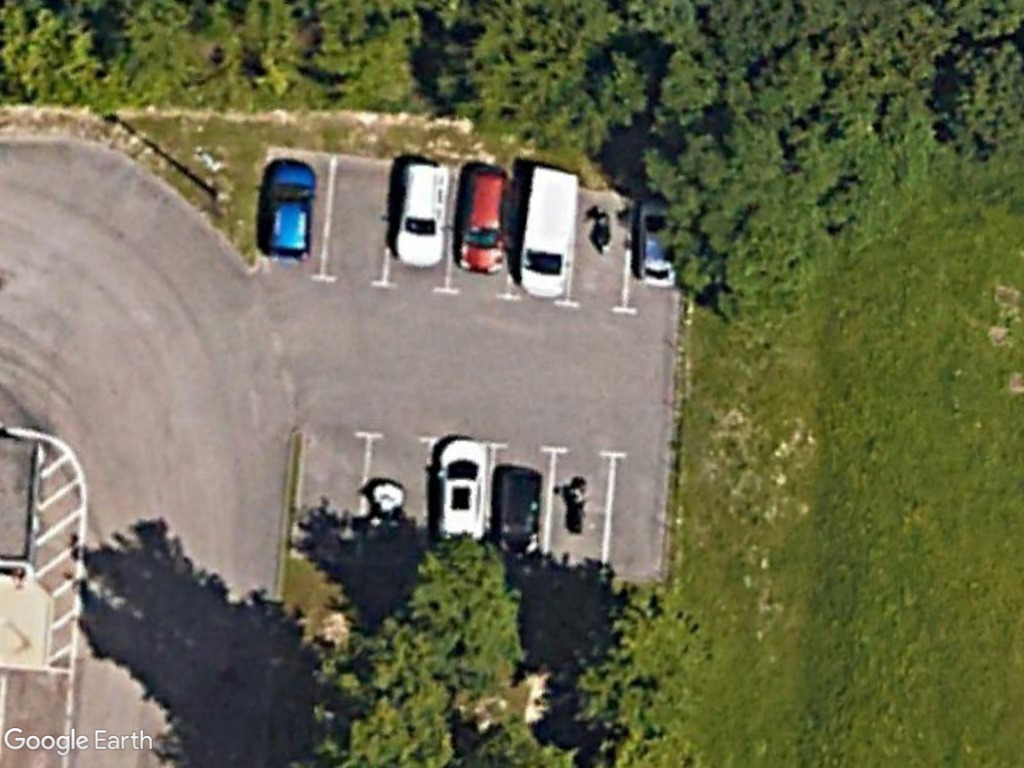car: (389, 156, 452, 273), (257, 156, 319, 268), (456, 165, 515, 276), (434, 436, 489, 544)
van: (518, 164, 580, 300)
